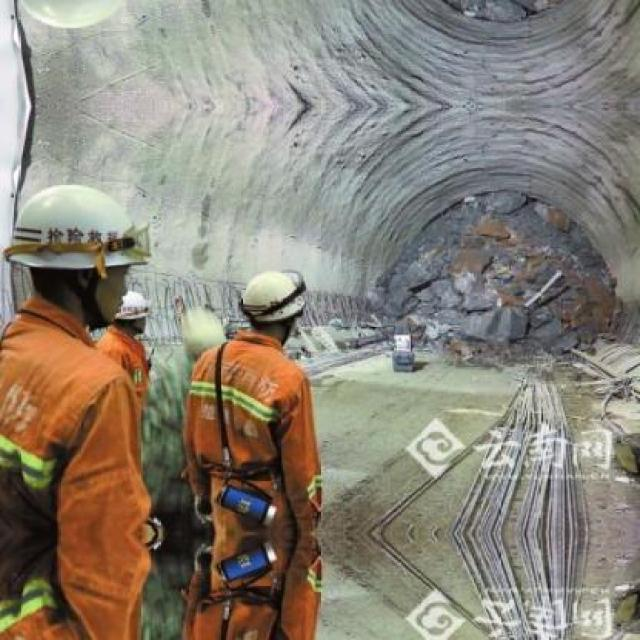helmet: (18, 179, 148, 310), (238, 265, 310, 332), (17, 0, 149, 34), (116, 286, 150, 332)
